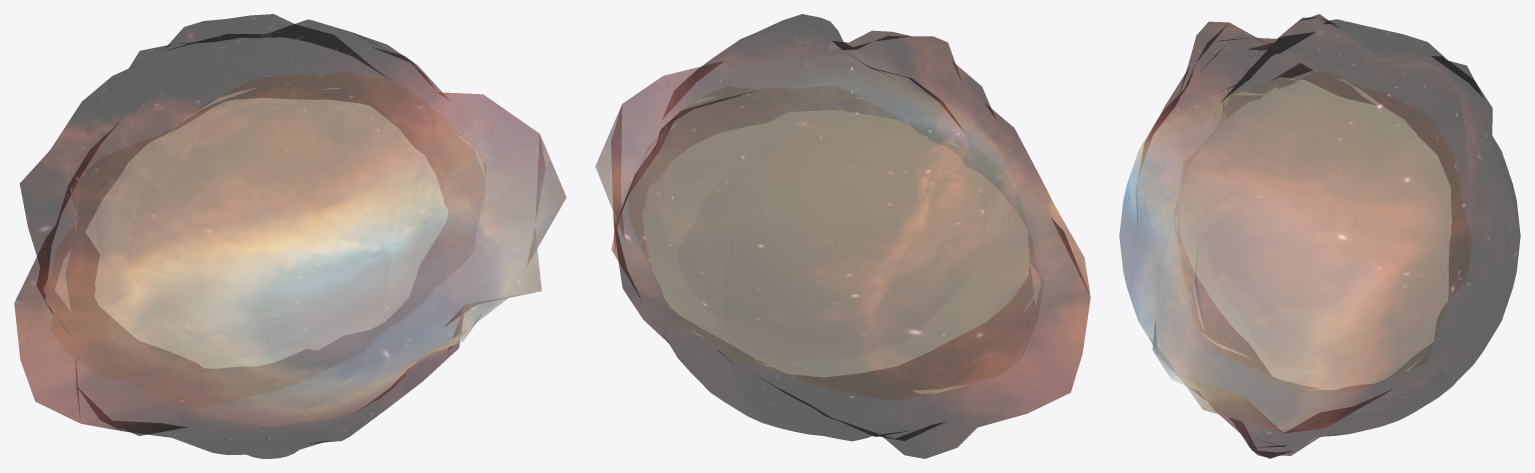
File: bio_object.glb
3 views of the same model, side by side, from view 1: azimuth 30°, elevation 25°; view 2: azimuth 150°, elevation 25°; view 3: azimuth 270°, elevation 25° (orthographic). The views are drawn at different scales.
Visible parts, largest first — view 1: Object_3, Object_5; view 2: Object_3, Object_5; view 3: Object_3.
Boxes of the visible parts, x1,y1,x2,y2 form: Object_3: [14, 14, 566, 458]; Object_5: [55, 88, 484, 349]; Object_3: [595, 14, 1090, 458]; Object_5: [646, 98, 1040, 393]; Object_3: [1119, 14, 1520, 458].
Bounding box in the file's own units: 1418 × 1068 × 921.
4 materials, 1 textured.
